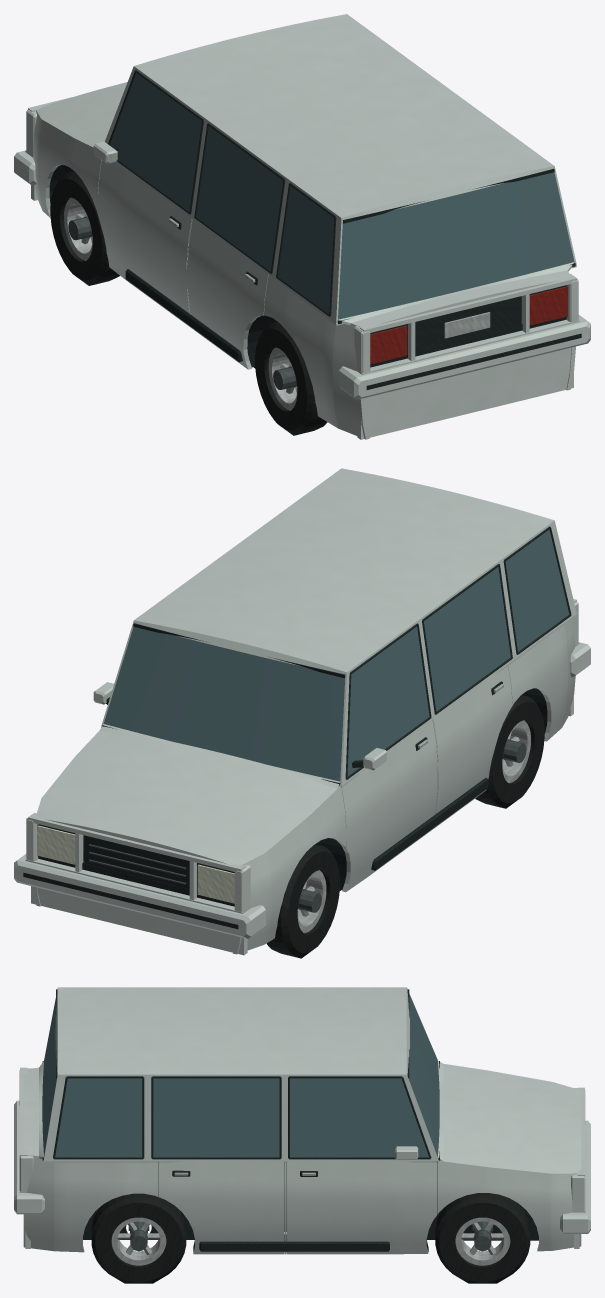
The picture shows the model from 3 angles, top to bottom: view 1: azimuth 30°, elevation 25°; view 2: azimuth 150°, elevation 25°; view 3: azimuth 270°, elevation 25°; orthographic projection. The views are drawn at different scales.
Parts seen in each view (by area): view 1: B028-09_roof_paint, B028-09_body_shell_paint.001, B028-09_glazing_glass.001, B028-09_body_shell_paint, B028-09_door_leaf_paint_front_door-1, B028-09_glazing_glass_rear_door-1, B028-09_glazing_glass_front_door-1, B028-09_door_leaf_paint_rear_door-1, B028-09_bumper_paint, B028-09_glazing_glass, B028-09_wheel_rubber_P-0.7850_-1.2700_0.3700, B028-09_wheel_rubber_P-0.7850_1.4000_0.3700 (+11 smaller); view 2: B028-09_roof_paint, B028-09_body_shell_paint.001, B028-09_glazing_glass.001, B028-09_body_shell_paint, B028-09_door_leaf_paint_front_door-1, B028-09_glazing_glass_rear_door-1, B028-09_glazing_glass_front_door-1, B028-09_door_leaf_paint_rear_door-1, B028-09_bumper_paint, B028-09_glazing_glass, B028-09_wheel_rubber_P-0.7850_1.4000_0.3700, B028-09_body_shell_dark (+12 smaller); view 3: B028-09_roof_paint, B028-09_body_shell_paint.001, B028-09_body_shell_paint, B028-09_door_leaf_paint_front_door1, B028-09_glazing_glass_rear_door1, B028-09_glazing_glass_front_door1, B028-09_door_leaf_paint_rear_door1, B028-09_glazing_glass, B028-09_wheel_rubber_P0.7850_1.4000_0.3700, B028-09_wheel_rubber_P0.7850_-1.2700_0.3700, B028-09_glazing_glass.001, B028-09_bumper_paint (+7 smaller).
Part boxes in pixels (x1,y1,x2,y2): B028-09_roof_paint: [134, 14, 553, 217]; B028-09_body_shell_paint.001: [25, 66, 579, 439]; B028-09_glazing_glass.001: [338, 172, 574, 319]; B028-09_body_shell_paint: [33, 110, 576, 439]; B028-09_door_leaf_paint_front_door-1: [98, 160, 192, 328]; B028-09_glazing_glass_rear_door-1: [196, 126, 283, 270]; B028-09_glazing_glass_front_door-1: [109, 73, 201, 211]; B028-09_door_leaf_paint_rear_door-1: [187, 219, 268, 369]; B028-09_bumper_paint: [14, 150, 590, 399]; B028-09_glazing_glass: [278, 186, 334, 313]; B028-09_wheel_rubber_P-0.7850_-1.2700_0.3700: [255, 322, 327, 435]; B028-09_wheel_rubber_P-0.7850_1.4000_0.3700: [50, 171, 119, 285]; B028-09_roof_paint: [134, 468, 554, 672]; B028-09_body_shell_paint.001: [25, 520, 579, 955]; B028-09_glazing_glass.001: [103, 627, 345, 781]; B028-09_body_shell_paint: [33, 614, 576, 954]; B028-09_door_leaf_paint_front_door-1: [341, 720, 437, 892]; B028-09_glazing_glass_rear_door-1: [424, 567, 510, 711]; B028-09_glazing_glass_front_door-1: [347, 626, 429, 776]; B028-09_door_leaf_paint_rear_door-1: [432, 665, 512, 829]; B028-09_bumper_paint: [14, 642, 590, 938]; B028-09_glazing_glass: [505, 529, 569, 651]; B028-09_wheel_rubber_P-0.7850_1.4000_0.3700: [266, 844, 339, 958]; B028-09_body_shell_dark: [38, 835, 234, 906]; B028-09_roof_paint: [57, 987, 406, 1074]; B028-09_body_shell_paint.001: [19, 987, 585, 1248]; B028-09_body_shell_paint: [23, 1155, 581, 1254]; B028-09_door_leaf_paint_front_door1: [286, 1159, 437, 1254]; B028-09_glazing_glass_rear_door1: [153, 1078, 279, 1157]; B028-09_glazing_glass_front_door1: [290, 1078, 428, 1157]; B028-09_door_leaf_paint_rear_door1: [158, 1161, 284, 1254]; B028-09_glazing_glass: [55, 1078, 142, 1157]; B028-09_wheel_rubber_P0.7850_1.4000_0.3700: [435, 1193, 530, 1283]; B028-09_wheel_rubber_P0.7850_-1.2700_0.3700: [91, 1193, 186, 1283]; B028-09_glazing_glass.001: [42, 994, 439, 1156]; B028-09_bumper_paint: [14, 1100, 590, 1233].
Size of the model in its own units: 2.12 by 1.79 by 4.48.
9 materials, 9 textured.
